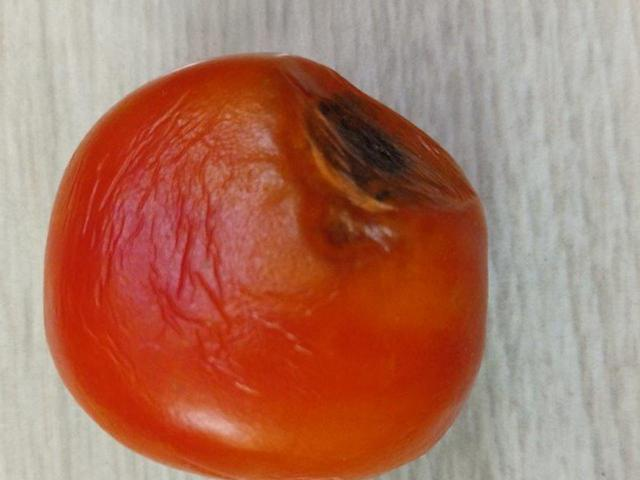defect: (38, 44, 499, 480)
